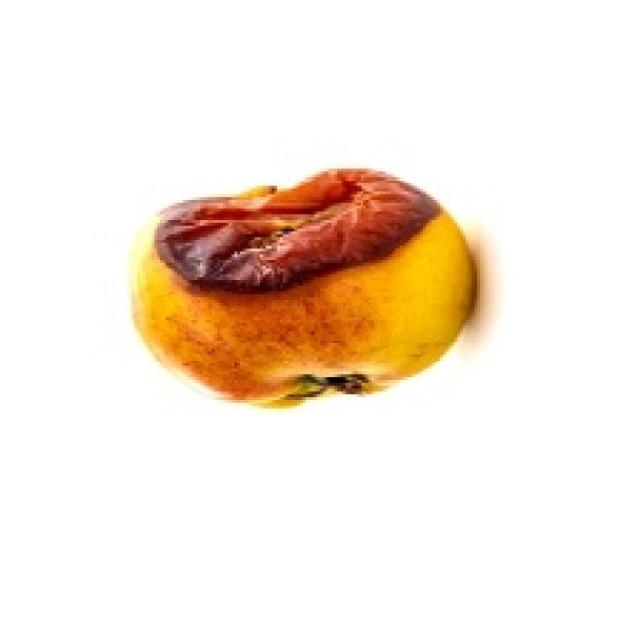rotten_apple: (133, 170, 475, 408)
